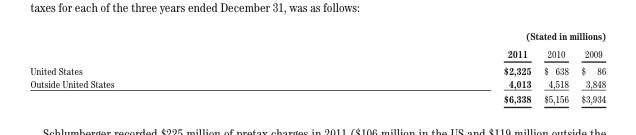table: (29, 29, 605, 104)
table column: (29, 29, 308, 104), (308, 29, 536, 104), (536, 29, 574, 104), (574, 29, 605, 104)
table column header: (29, 29, 605, 61)
table row: (29, 44, 605, 61), (29, 61, 605, 77), (29, 29, 605, 44), (29, 90, 605, 104), (29, 77, 605, 90)
table spanning cell: (308, 29, 605, 44)
